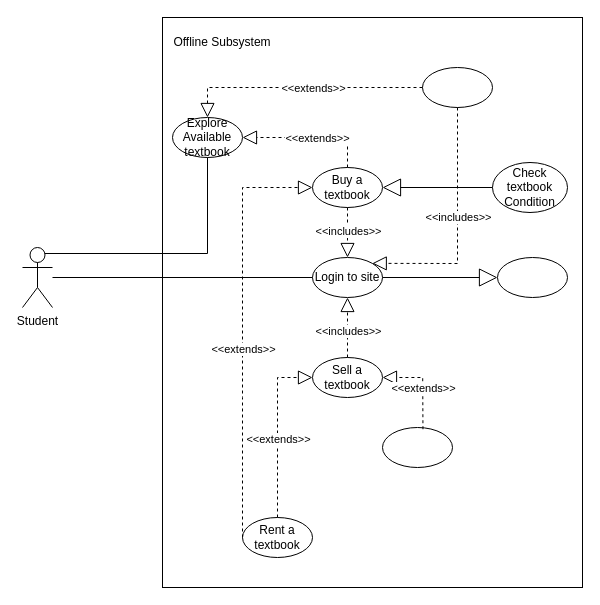
This 600x605 diagram has some shape labels left out. Each missing label, with the box of its shape:
Bid to sell: (382, 426, 452, 468)
Register to Site: (496, 256, 568, 298)
Review Available textbook: (422, 66, 492, 108)
